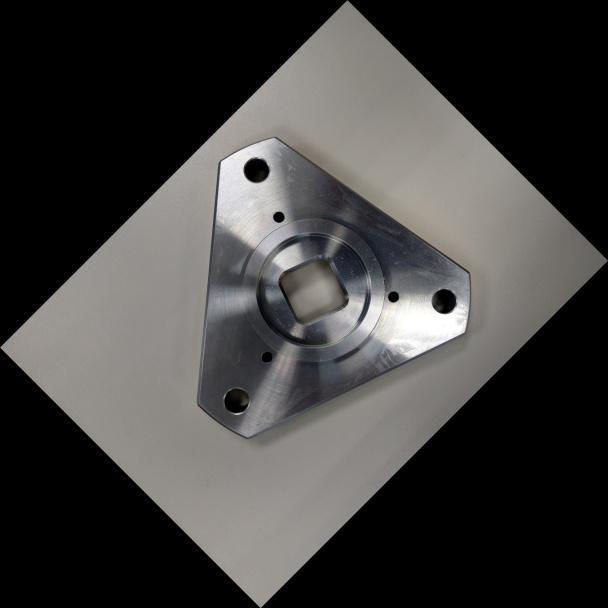hole: (213, 377, 258, 423), (421, 279, 465, 323), (235, 148, 277, 190), (381, 284, 405, 308), (255, 345, 278, 368), (267, 204, 290, 227)
